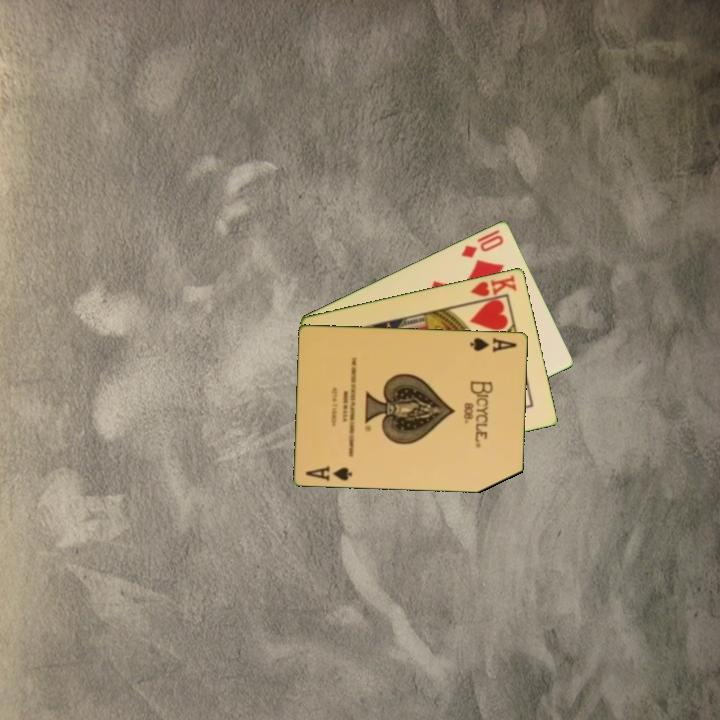10d: (458, 226, 507, 261)
As: (302, 462, 356, 483), (467, 334, 520, 355)
Kh: (466, 271, 520, 305)
